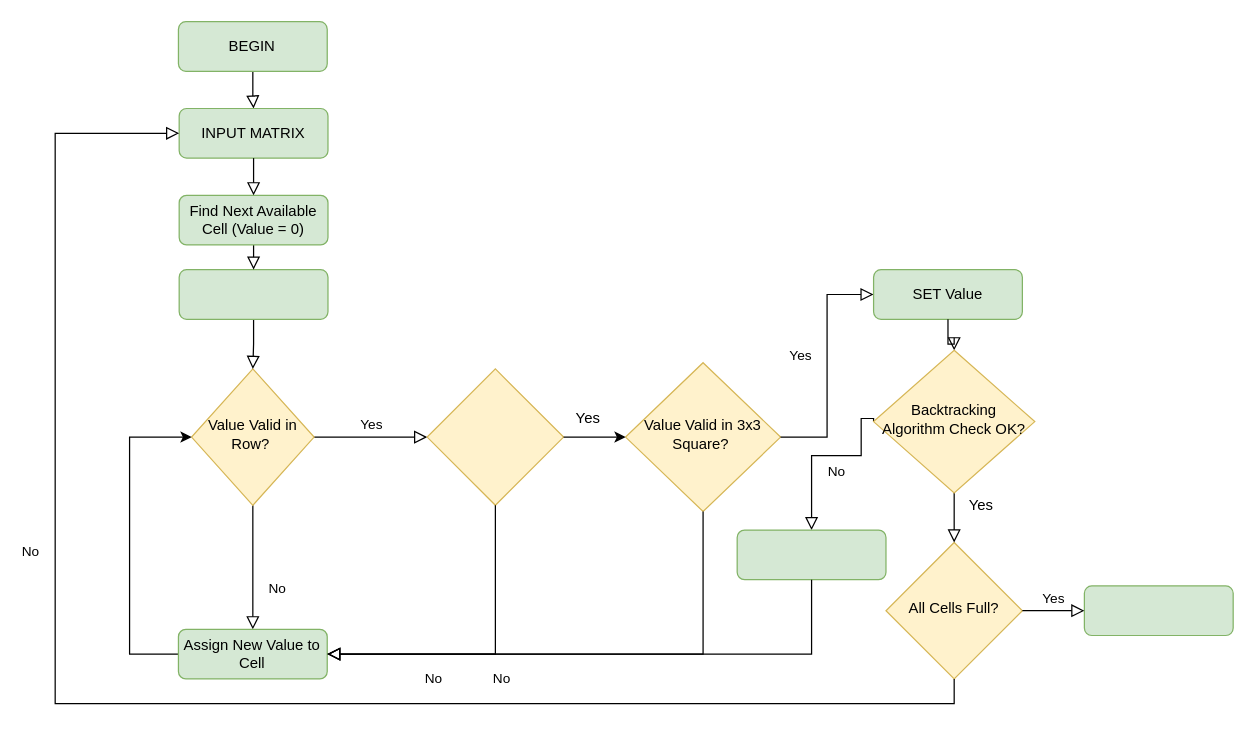
Image size: 1255x738. Some labels were removed from this diagram. The shapes that lost their labels are listed below. From the top down, each one's centre as x and y in pixels, then its label:
At point 253,293: "Assign Value to Cell".
At point 495,436: "Value Valid in Column?".
At point 811,554: "Reset to last valid state".
At point 1158,610: "END".
